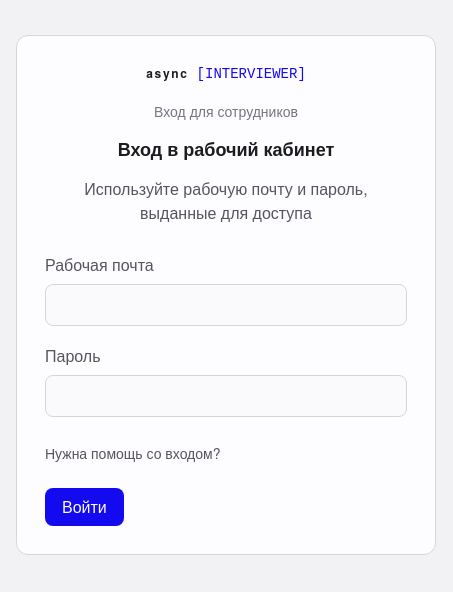
Test: LoginPage › shows a unified Russian message on 401 and keeps the email
In the field labelled "Рабочая почта": [226, 305] box [45, 284, 407, 326], type "expert@example.com"
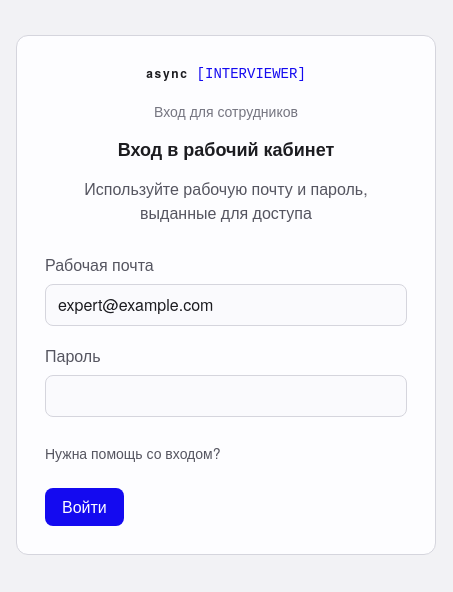
In the password field labelled "Пароль": [226, 396] box [45, 375, 407, 417], type "TempPass123"
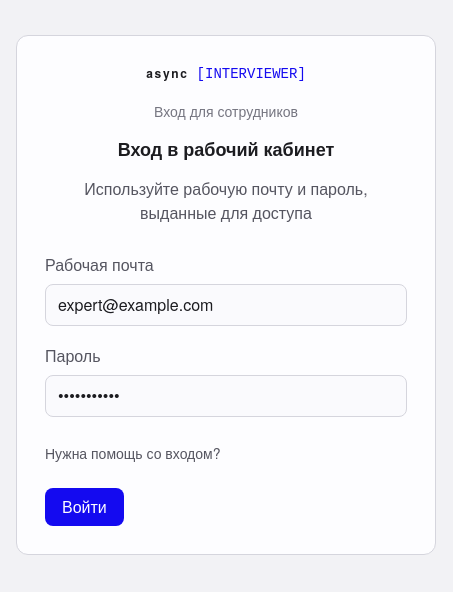
Submit the form "Рабочая почта Пароль Нужна помощь со входом? Войти", box [45, 253, 407, 526]
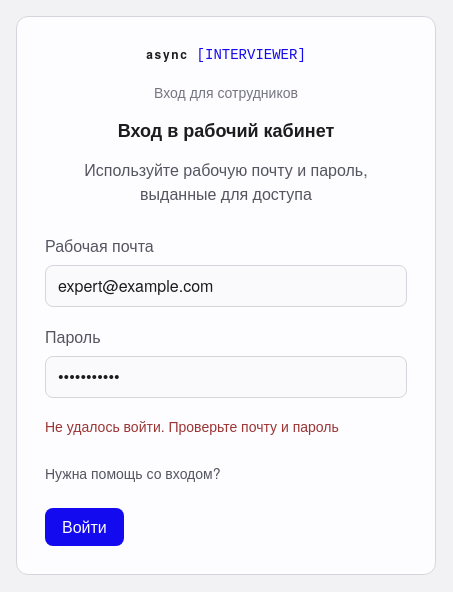
Expected: the text "Не удалось войти. Проверьте почту и пароль" is shown, [45, 416, 339, 436]
